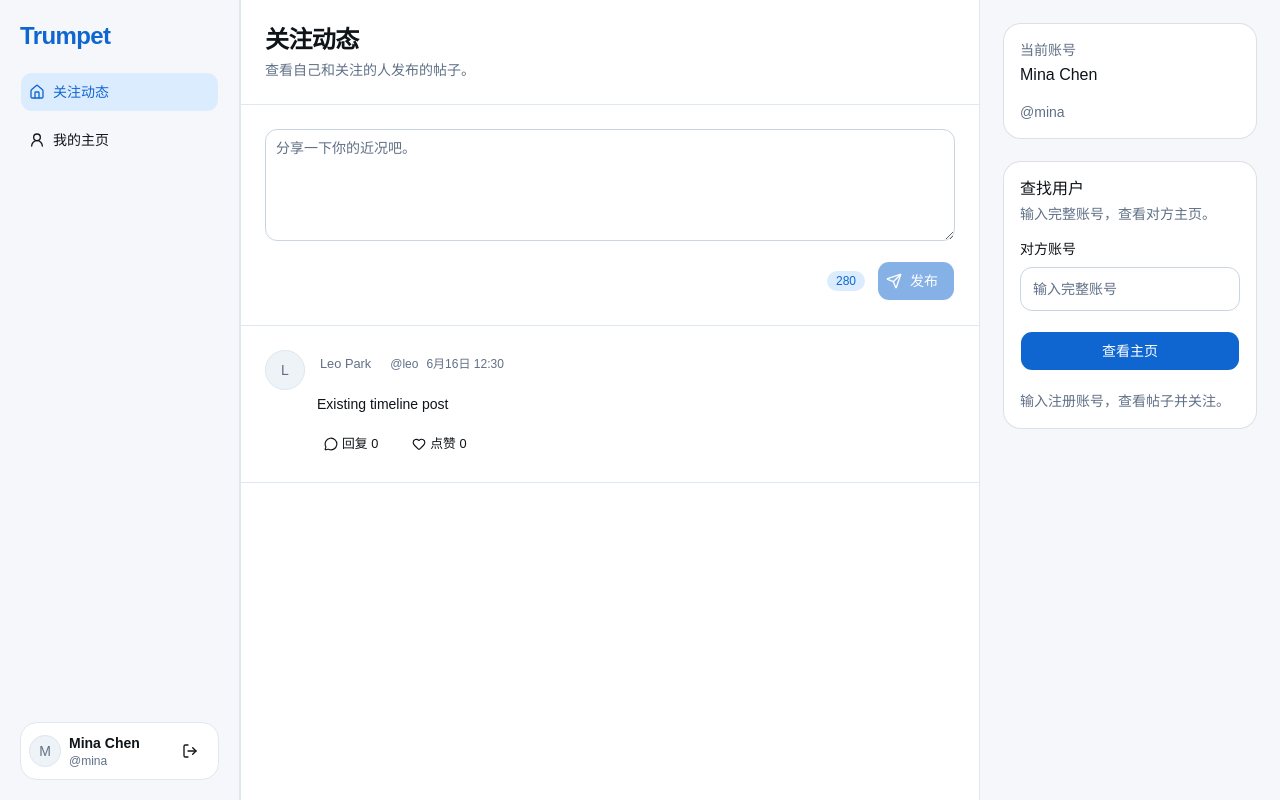
Test case: App timeline interactions › creates a post and prepends it to the timeline
This screenshot has width=1280, height=800.
Type "A new post from the composer" into the text box with placeholder "分享一下你的近况吧。". click: {"x": 610, "y": 185}
box: [265, 129, 955, 241]
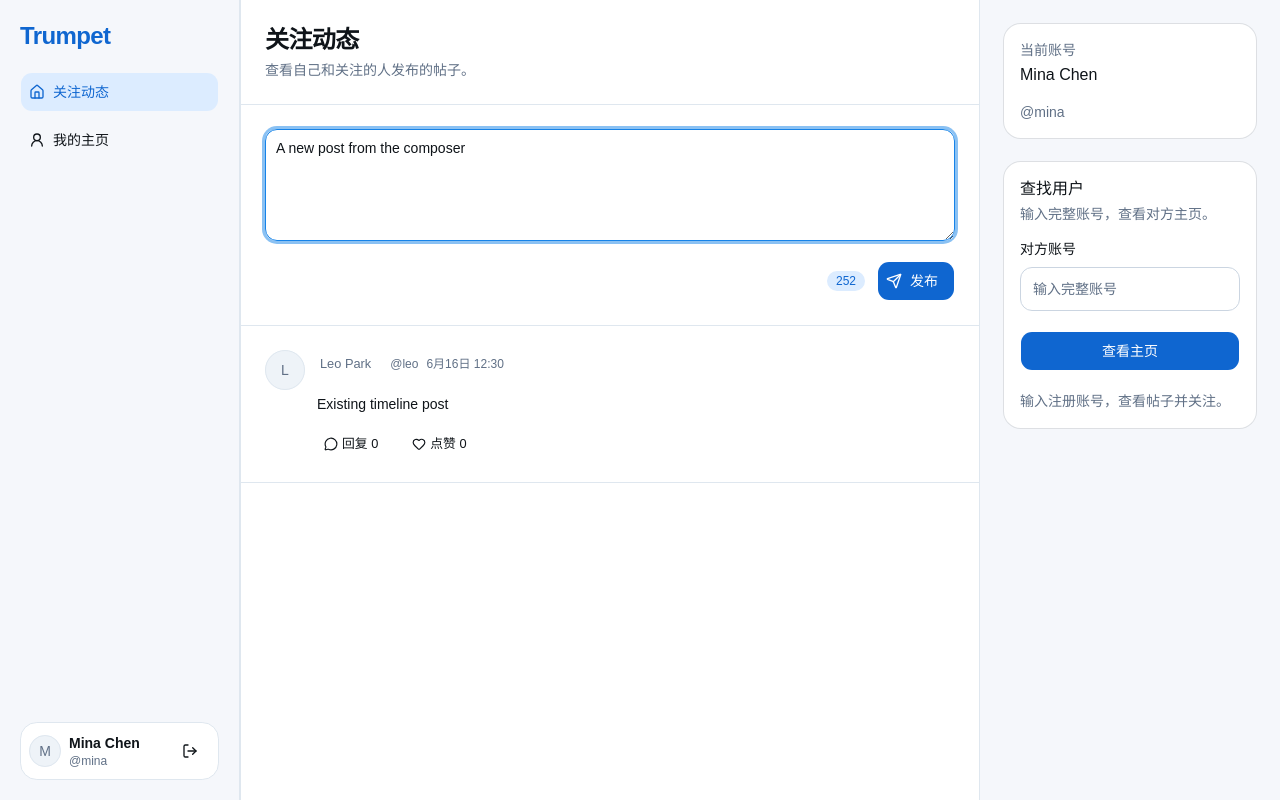
Click the button "发布". click: {"x": 916, "y": 281}
box: [877, 261, 955, 301]
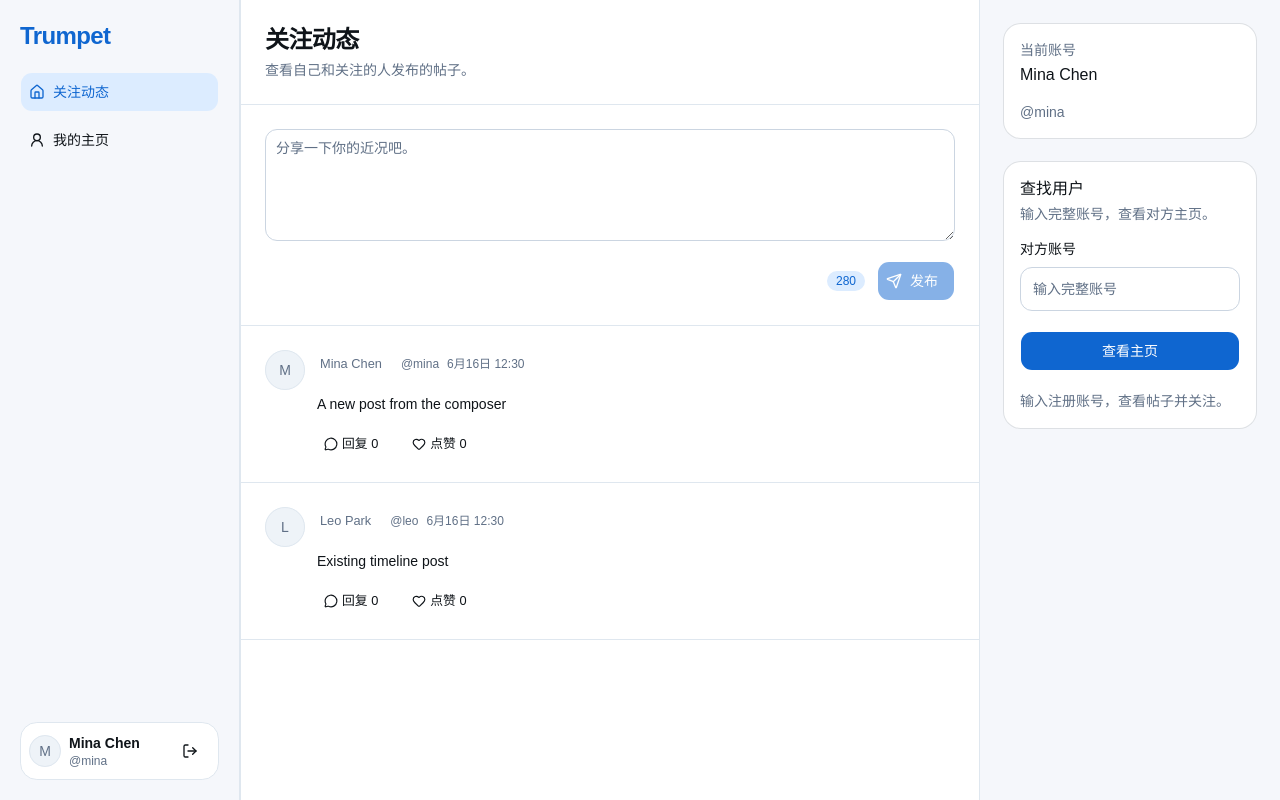
Now the text "A new post from the composer" is shown, box [317, 396, 506, 412]
Now the text box with placeholder "分享一下你的近况吧。" is empty, box [265, 129, 955, 241]
